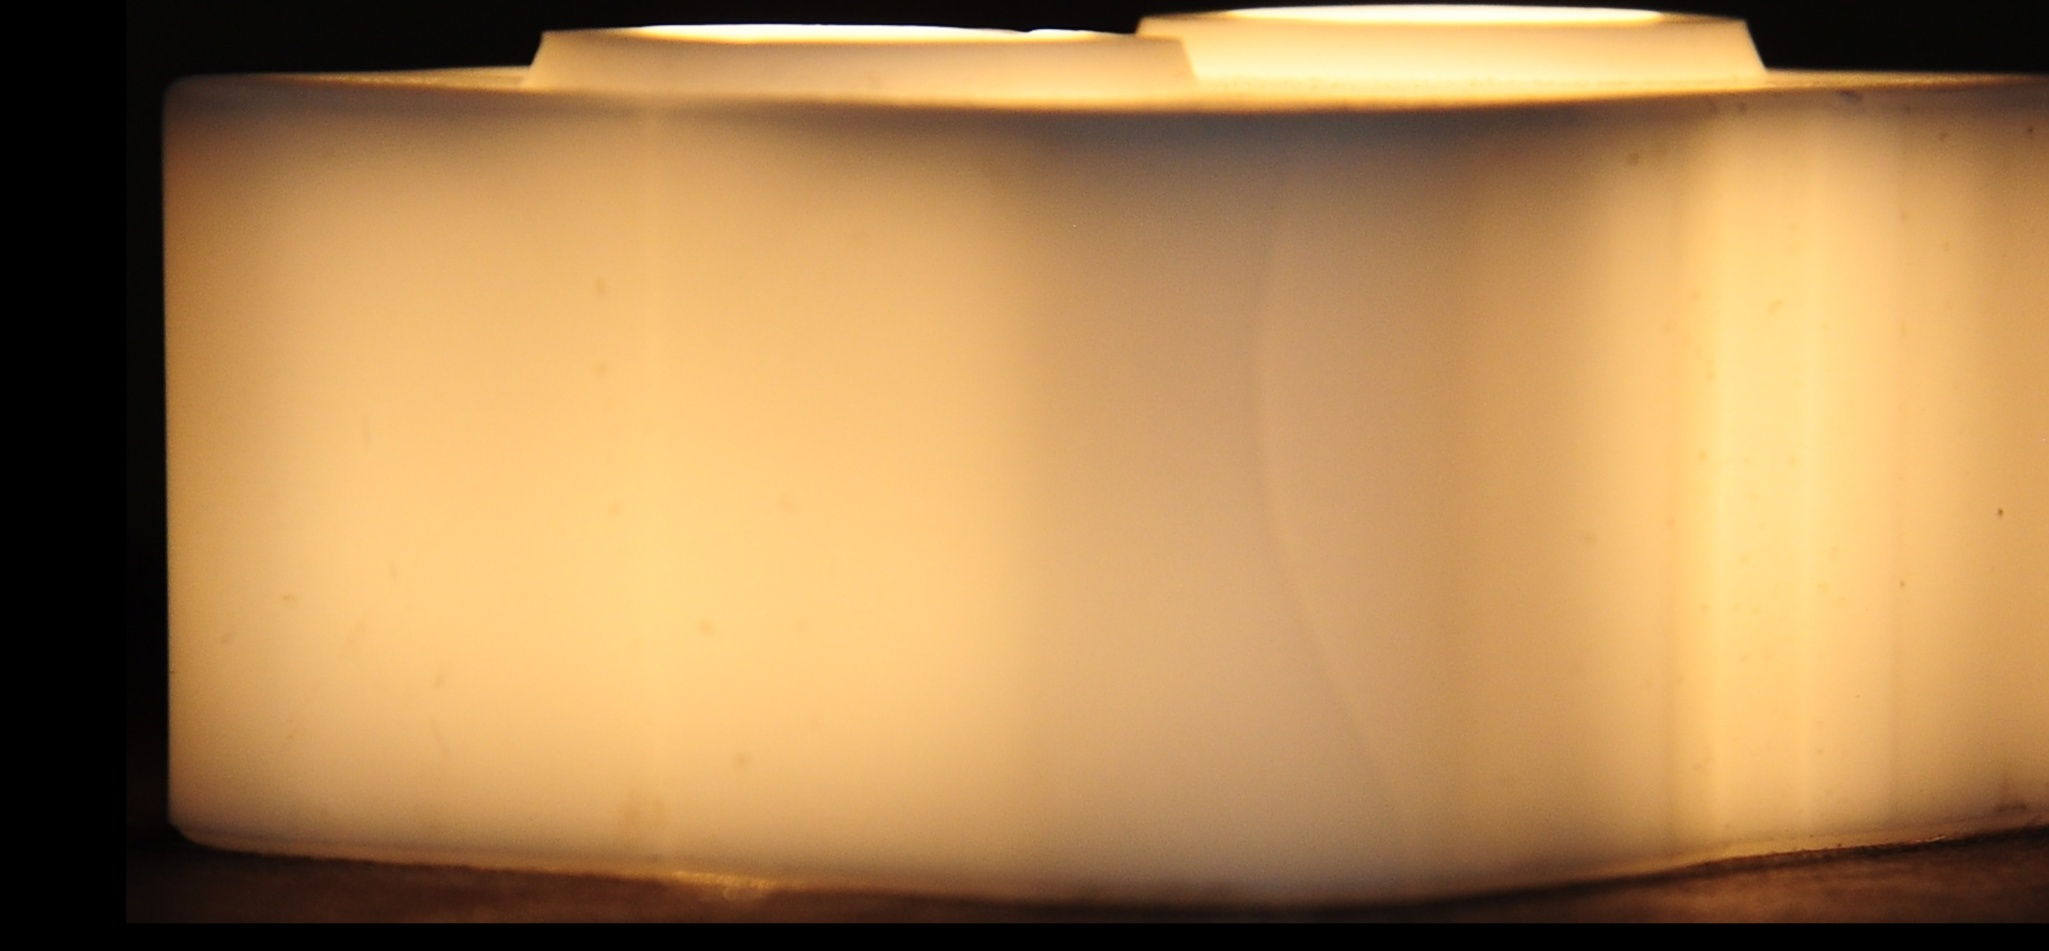flaw: (1236, 101, 1405, 913)
